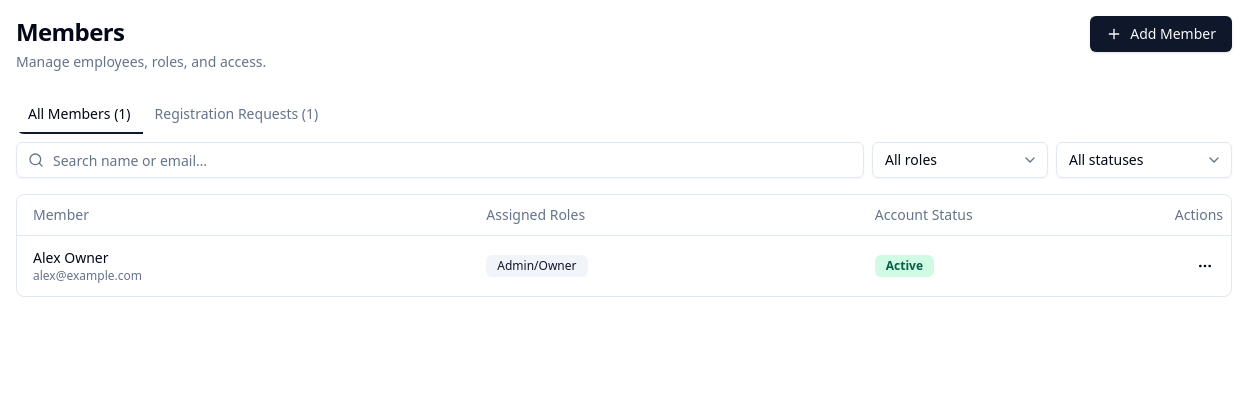
Test case: member management › closes the member actions menu with Escape and restores focus
Click the button named "Actions for Alex Owner".
click(1205, 266)  # box [1187,248,1223,284]
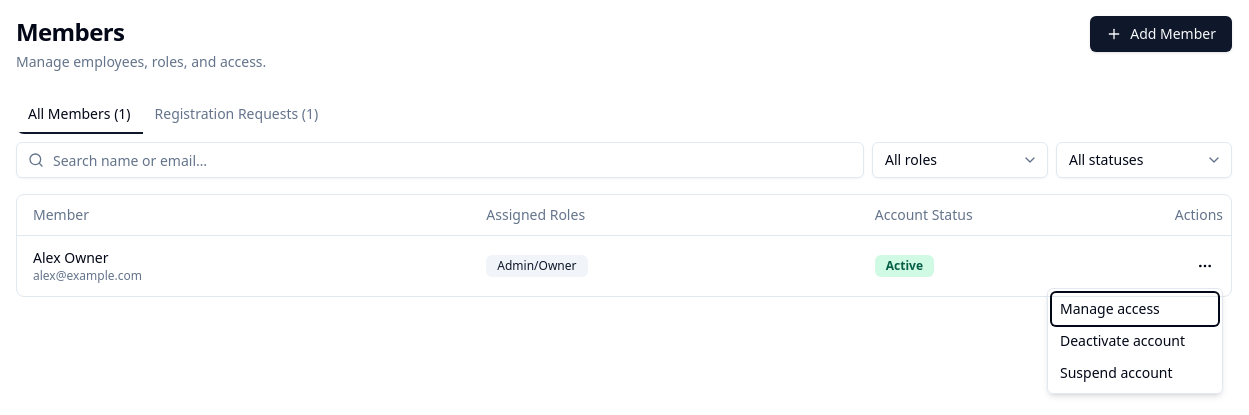
expect the button "Manage access" is shown: met, box [1052,292,1218,324]
Press Escape
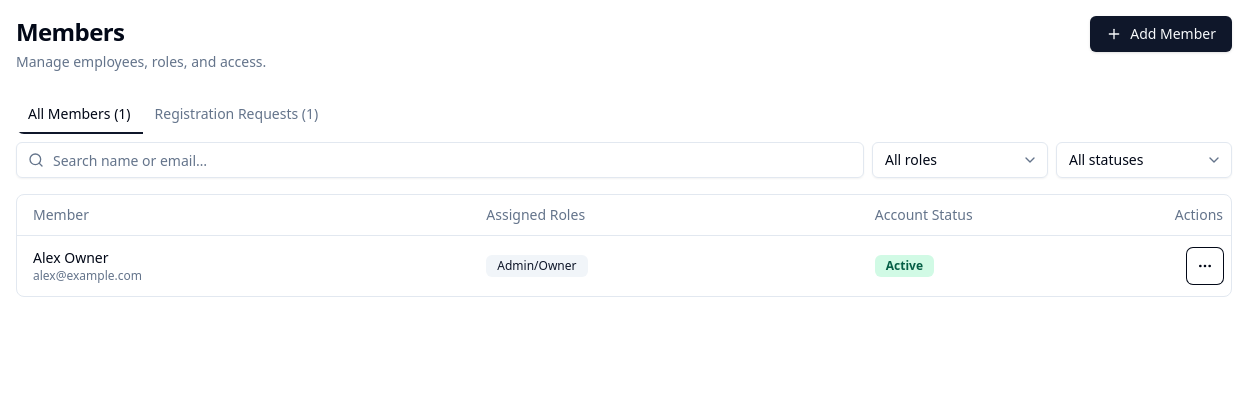
expect the button "Manage access" is gone: met
